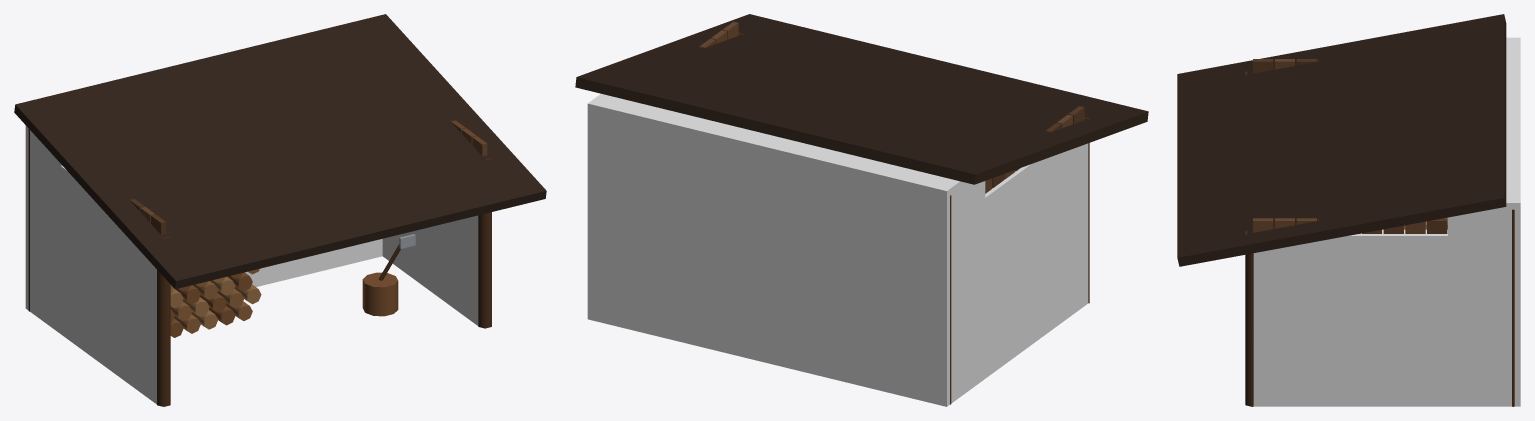
The model's file is cobertizo.glb.
The picture shows the model from 3 angles, left to right: view 1: azimuth 30°, elevation 25°; view 2: azimuth 150°, elevation 25°; view 3: azimuth 270°, elevation 25°; orthographic projection. The views are drawn at different scales.
Parts seen in each view (by area): view 1: cobertizo_Malla, COL_1, COL_0, COL_2; view 2: COL_0, cobertizo_Malla, COL_1; view 3: cobertizo_Malla, COL_2, COL_0.
Boxes of the visible parts, x1,y1,x2,y2 form: cobertizo_Malla: [14, 14, 546, 406]; COL_1: [61, 166, 156, 404]; COL_0: [25, 125, 382, 334]; COL_2: [382, 215, 478, 325]; COL_0: [587, 93, 985, 406]; cobertizo_Malla: [575, 14, 1148, 404]; COL_1: [951, 143, 1088, 378]; cobertizo_Malla: [1177, 14, 1514, 406]; COL_2: [1253, 229, 1511, 406]; COL_0: [1448, 37, 1520, 406].
Bounding box in the file's own units: 6 × 3.32 × 4.73.
